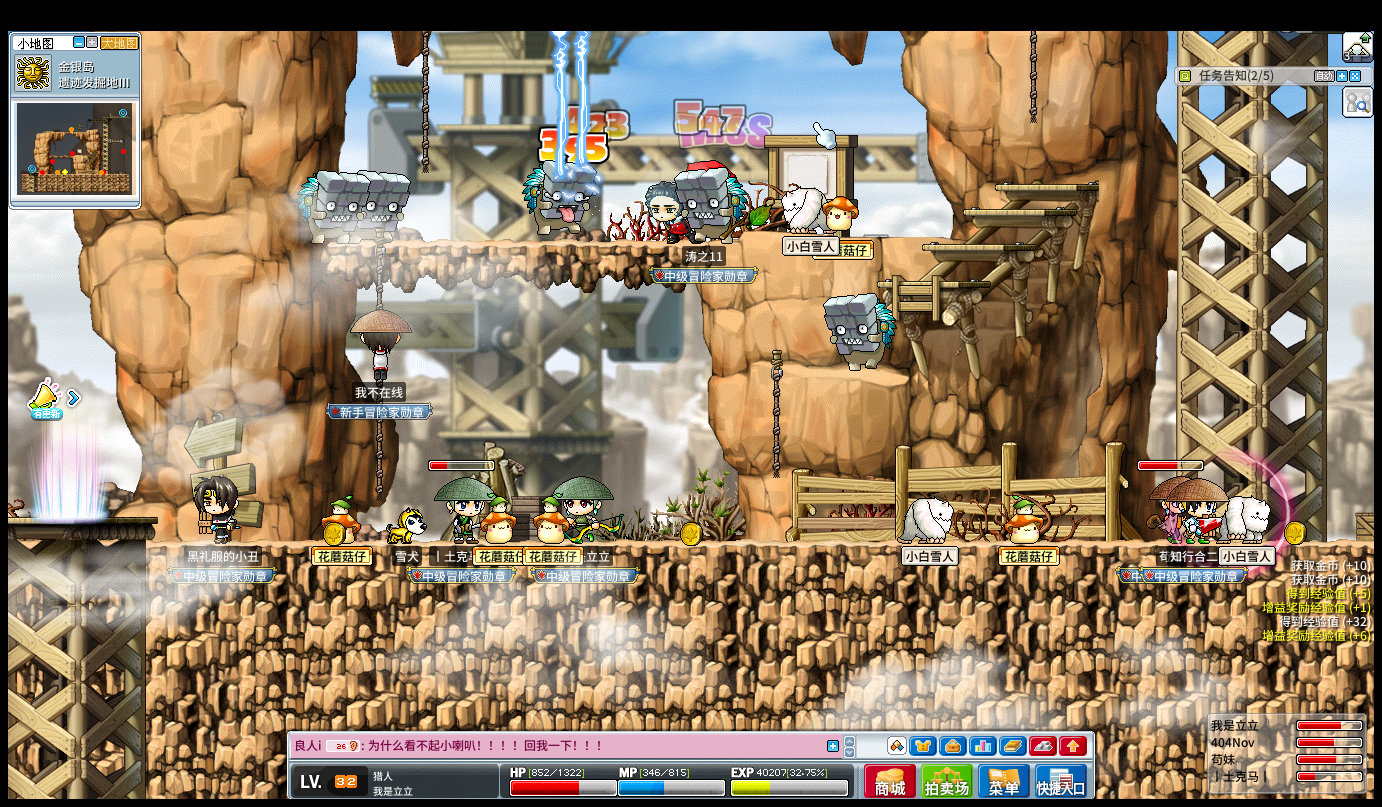floor: (147, 538, 1373, 550), (317, 238, 697, 251), (799, 366, 910, 387), (765, 233, 963, 242), (7, 517, 158, 526), (964, 207, 1078, 215), (926, 243, 1035, 251), (878, 280, 986, 288), (995, 184, 1099, 191), (993, 183, 1097, 190)
monster: (522, 161, 605, 244), (822, 293, 896, 370), (674, 169, 746, 243), (296, 169, 366, 244), (362, 169, 411, 244)
rope: (770, 351, 783, 481), (374, 419, 388, 504), (371, 420, 384, 503), (422, 29, 430, 160), (371, 233, 384, 312), (1027, 30, 1036, 121)
